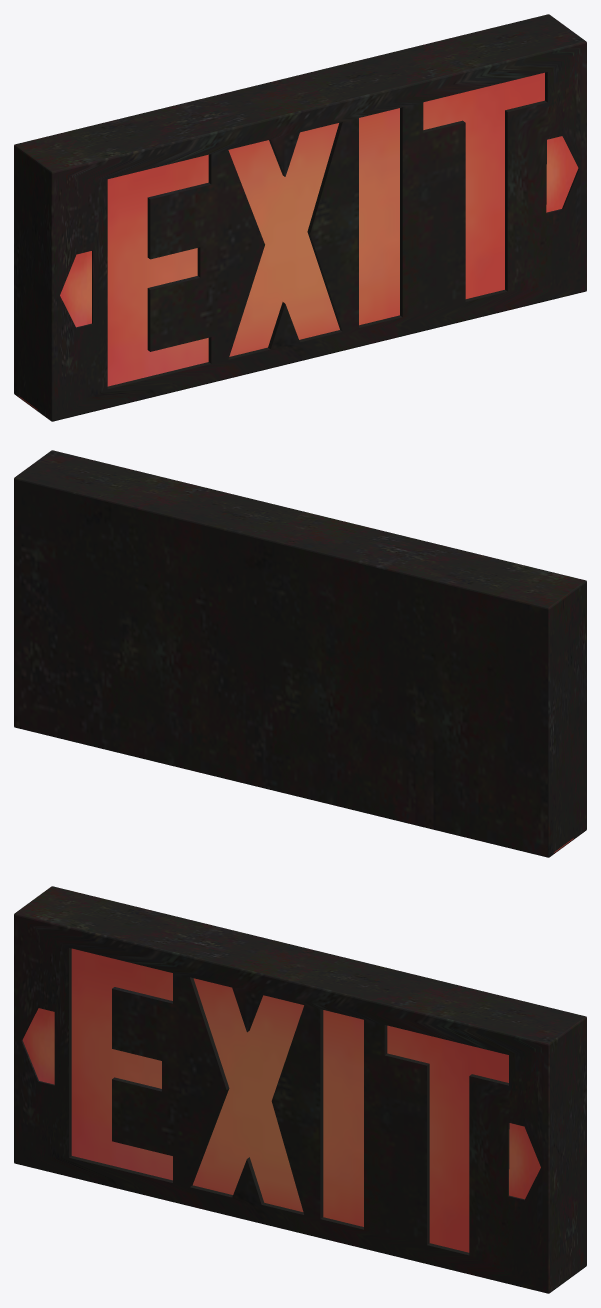
The model's file is sm21_005_exitsign01a.fbx.
The picture shows the model from 3 angles, top to bottom: view 1: azimuth 30°, elevation 25°; view 2: azimuth 150°, elevation 25°; view 3: azimuth 330°, elevation 25°; orthographic projection.
Visible parts, largest first — view 1: LOD_1_Group_0_Sub_1__sm21_005_ExitSign01A_A_Mat, LOD_1_Group_0_Sub_2__sm21_005_ExitSign01A_B_Mat, LOD_1_Group_1_Sub_1__sm21_005_ExitSign01A_B_Mat, LOD_1_Group_2_Sub_1__sm21_005_ExitSign01A_B_Mat; view 2: LOD_1_Group_0_Sub_1__sm21_005_ExitSign01A_A_Mat; view 3: LOD_1_Group_0_Sub_1__sm21_005_ExitSign01A_A_Mat, LOD_1_Group_0_Sub_2__sm21_005_ExitSign01A_B_Mat, LOD_1_Group_2_Sub_1__sm21_005_ExitSign01A_B_Mat, LOD_1_Group_1_Sub_1__sm21_005_ExitSign01A_B_Mat.
Part boxes in pixels (x1,y1,x2,y2): LOD_1_Group_0_Sub_1__sm21_005_ExitSign01A_A_Mat: [14, 14, 586, 421]; LOD_1_Group_0_Sub_2__sm21_005_ExitSign01A_B_Mat: [107, 72, 544, 386]; LOD_1_Group_1_Sub_1__sm21_005_ExitSign01A_B_Mat: [546, 136, 578, 212]; LOD_1_Group_2_Sub_1__sm21_005_ExitSign01A_B_Mat: [60, 251, 91, 327]; LOD_1_Group_0_Sub_1__sm21_005_ExitSign01A_A_Mat: [14, 450, 586, 857]; LOD_1_Group_0_Sub_1__sm21_005_ExitSign01A_A_Mat: [14, 886, 586, 1293]; LOD_1_Group_0_Sub_2__sm21_005_ExitSign01A_B_Mat: [71, 948, 508, 1252]; LOD_1_Group_2_Sub_1__sm21_005_ExitSign01A_B_Mat: [22, 1008, 54, 1084]; LOD_1_Group_1_Sub_1__sm21_005_ExitSign01A_B_Mat: [509, 1123, 540, 1199].
Bounding box in the file's own units: 0.4541 × 0.2112 × 0.0565.
